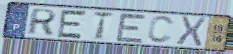C: (146, 15, 177, 45)
E: (114, 11, 149, 45), (55, 8, 89, 40)
R: (25, 8, 59, 36)
T: (92, 10, 116, 42)
X: (174, 15, 208, 48)
